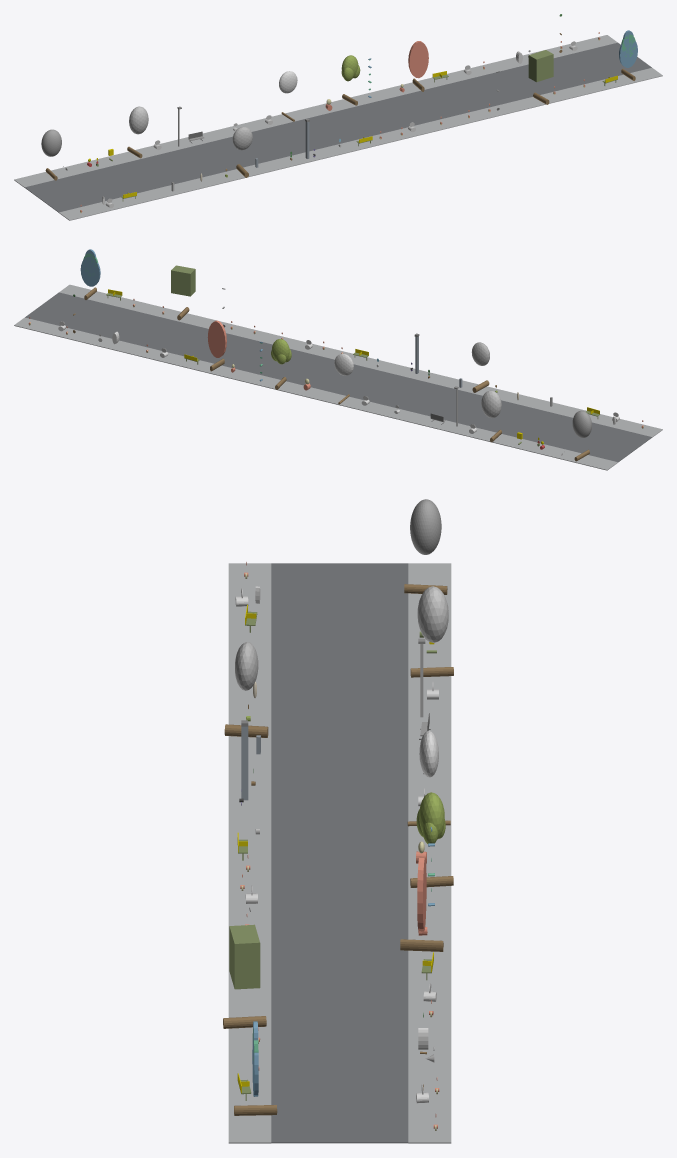
The picture shows the model from 3 angles, top to bottom: view 1: azimuth 30°, elevation 25°; view 2: azimuth 150°, elevation 25°; view 3: azimuth 270°, elevation 25°; orthographic projection. The views are drawn at different scales.
Visible parts, largest first — view 1: road_slab, sidewalk_left, sidewalk_right, inst_0024, inst_0023, inst_0025, inst_0019, inst_0018, inst_0022, inst_0020, inst_0021; view 2: road_slab, sidewalk_right, sidewalk_left, inst_0024, inst_0023, inst_0025, inst_0019, inst_0018, inst_0022, inst_0020, inst_0021; view 3: road_slab, sidewalk_left, sidewalk_right, inst_0024, inst_0019, inst_0018, inst_0022, inst_0020, inst_0023, inst_0025.
Boxes of the visible parts, box(x1,y1,x2,y2) form: road_slab: box(24, 42, 651, 212); sidewalk_left: box(59, 68, 662, 220); sidewalk_right: box(14, 35, 617, 187); inst_0024: box(528, 50, 553, 104); inst_0023: box(408, 41, 428, 91); inst_0025: box(619, 30, 637, 80); inst_0019: box(127, 106, 148, 158); inst_0018: box(41, 129, 61, 180); inst_0022: box(341, 55, 360, 105); inst_0020: box(232, 127, 252, 177); inst_0021: box(279, 71, 297, 121); road_slab: box(25, 292, 652, 462); sidewalk_right: box(14, 317, 617, 470); sidewalk_left: box(59, 284, 662, 437); inst_0024: box(171, 265, 195, 320); inst_0023: box(207, 320, 226, 371); inst_0025: box(80, 249, 100, 299); inst_0019: box(481, 390, 501, 442); inst_0018: box(572, 410, 591, 461); inst_0022: box(271, 339, 291, 389); inst_0020: box(471, 342, 489, 392); inst_0021: box(334, 353, 353, 404); road_slab: box(271, 563, 408, 1143); sidewalk_left: box(228, 563, 271, 1143); sidewalk_right: box(408, 563, 451, 1143); inst_0024: box(223, 924, 266, 1028); inst_0019: box(410, 586, 453, 677); inst_0018: box(404, 499, 447, 594); inst_0022: box(410, 792, 453, 887); inst_0020: box(224, 642, 268, 737); inst_0023: box(400, 857, 443, 951); inst_0025: box(234, 1021, 277, 1115).
Size of the model in its own units: 80 by 6.08 by 13.48.
